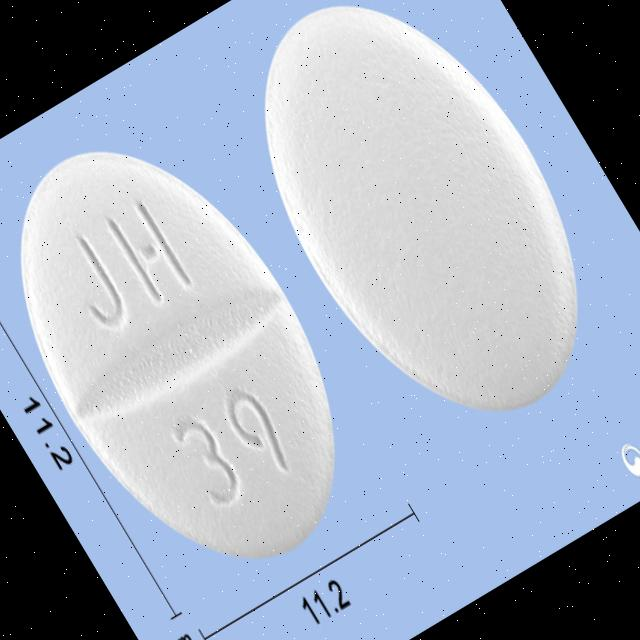Ciflox - 250mg: (0, 88, 405, 617), (192, 0, 640, 471)
